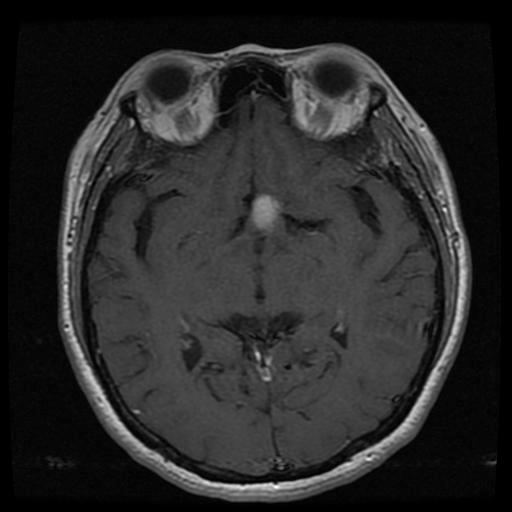Tumour-Pituitary: (248, 191, 288, 237)
